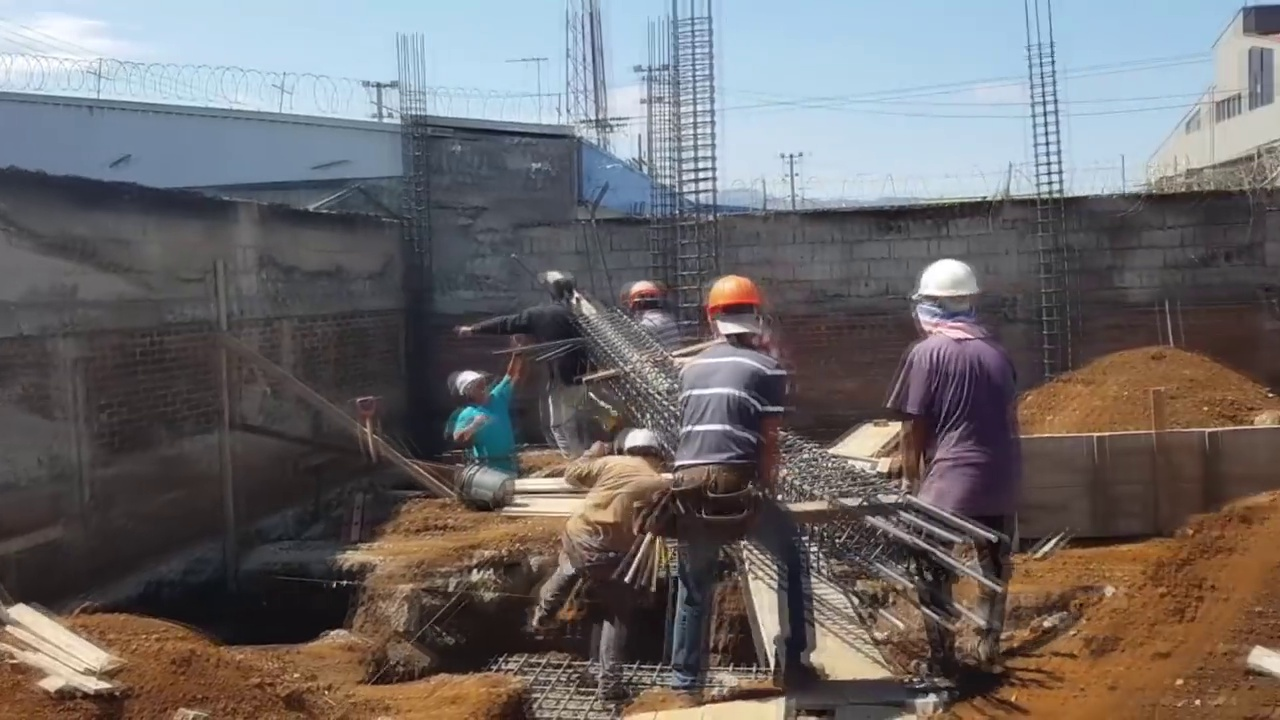helmet: (917, 263, 987, 308), (704, 277, 763, 316), (624, 429, 660, 455), (629, 280, 664, 305), (456, 370, 484, 396)
helmet-off: (548, 279, 575, 310)
helmet-on: (703, 277, 768, 349), (628, 279, 665, 318), (623, 429, 660, 463), (456, 369, 489, 406)
person: (672, 264, 817, 693), (884, 230, 1012, 687), (538, 429, 661, 695), (456, 276, 583, 459), (450, 333, 527, 474), (628, 276, 682, 352)
